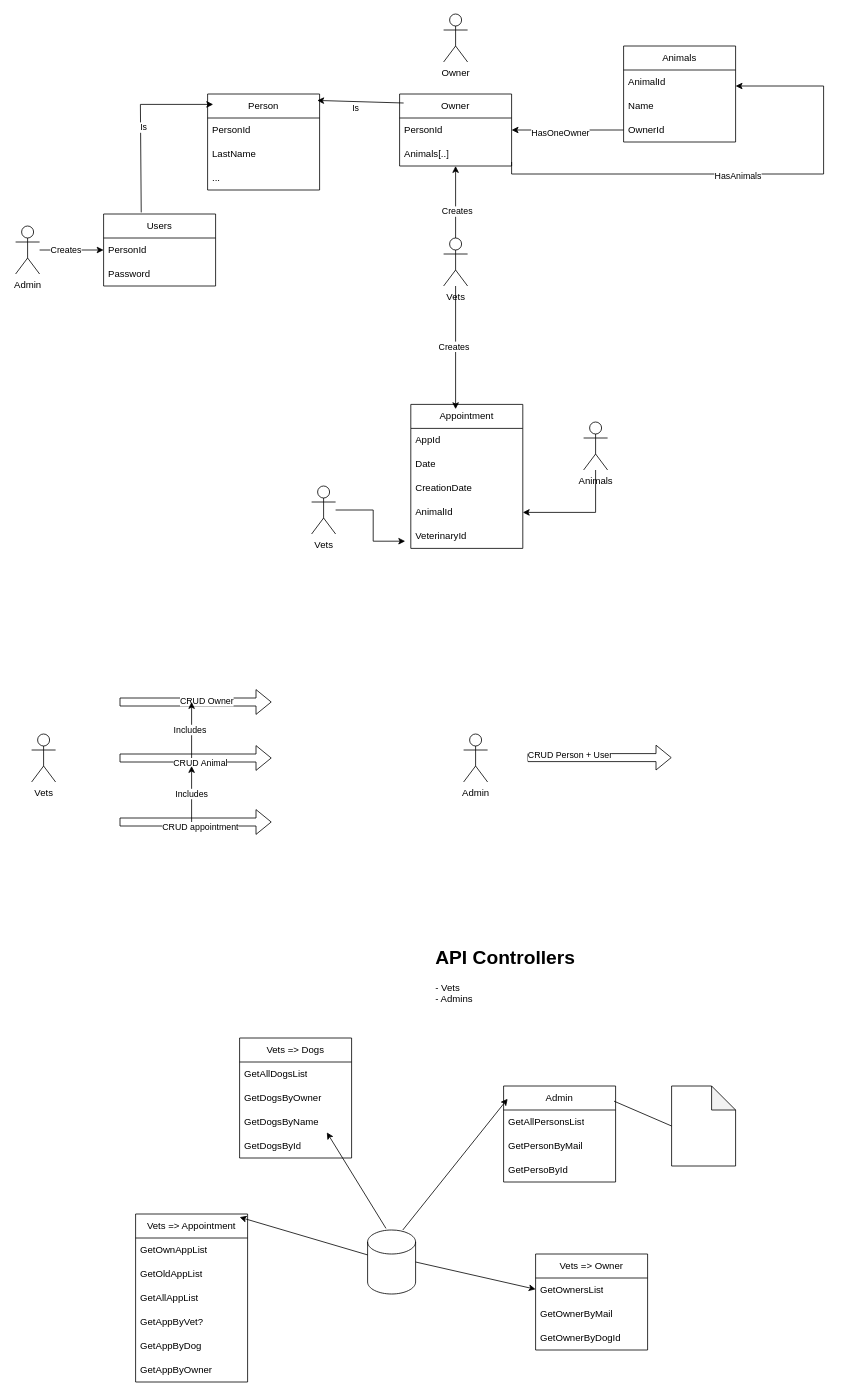
Some shapes in this 844 by 1396 pixel diagram are drawn without their labels. The centre of each missing label's shape, as x and y in pixels:
"If 'User', lookup for the password" goes at pixel 703 1125.
"Server" goes at pixel 391 1261.
